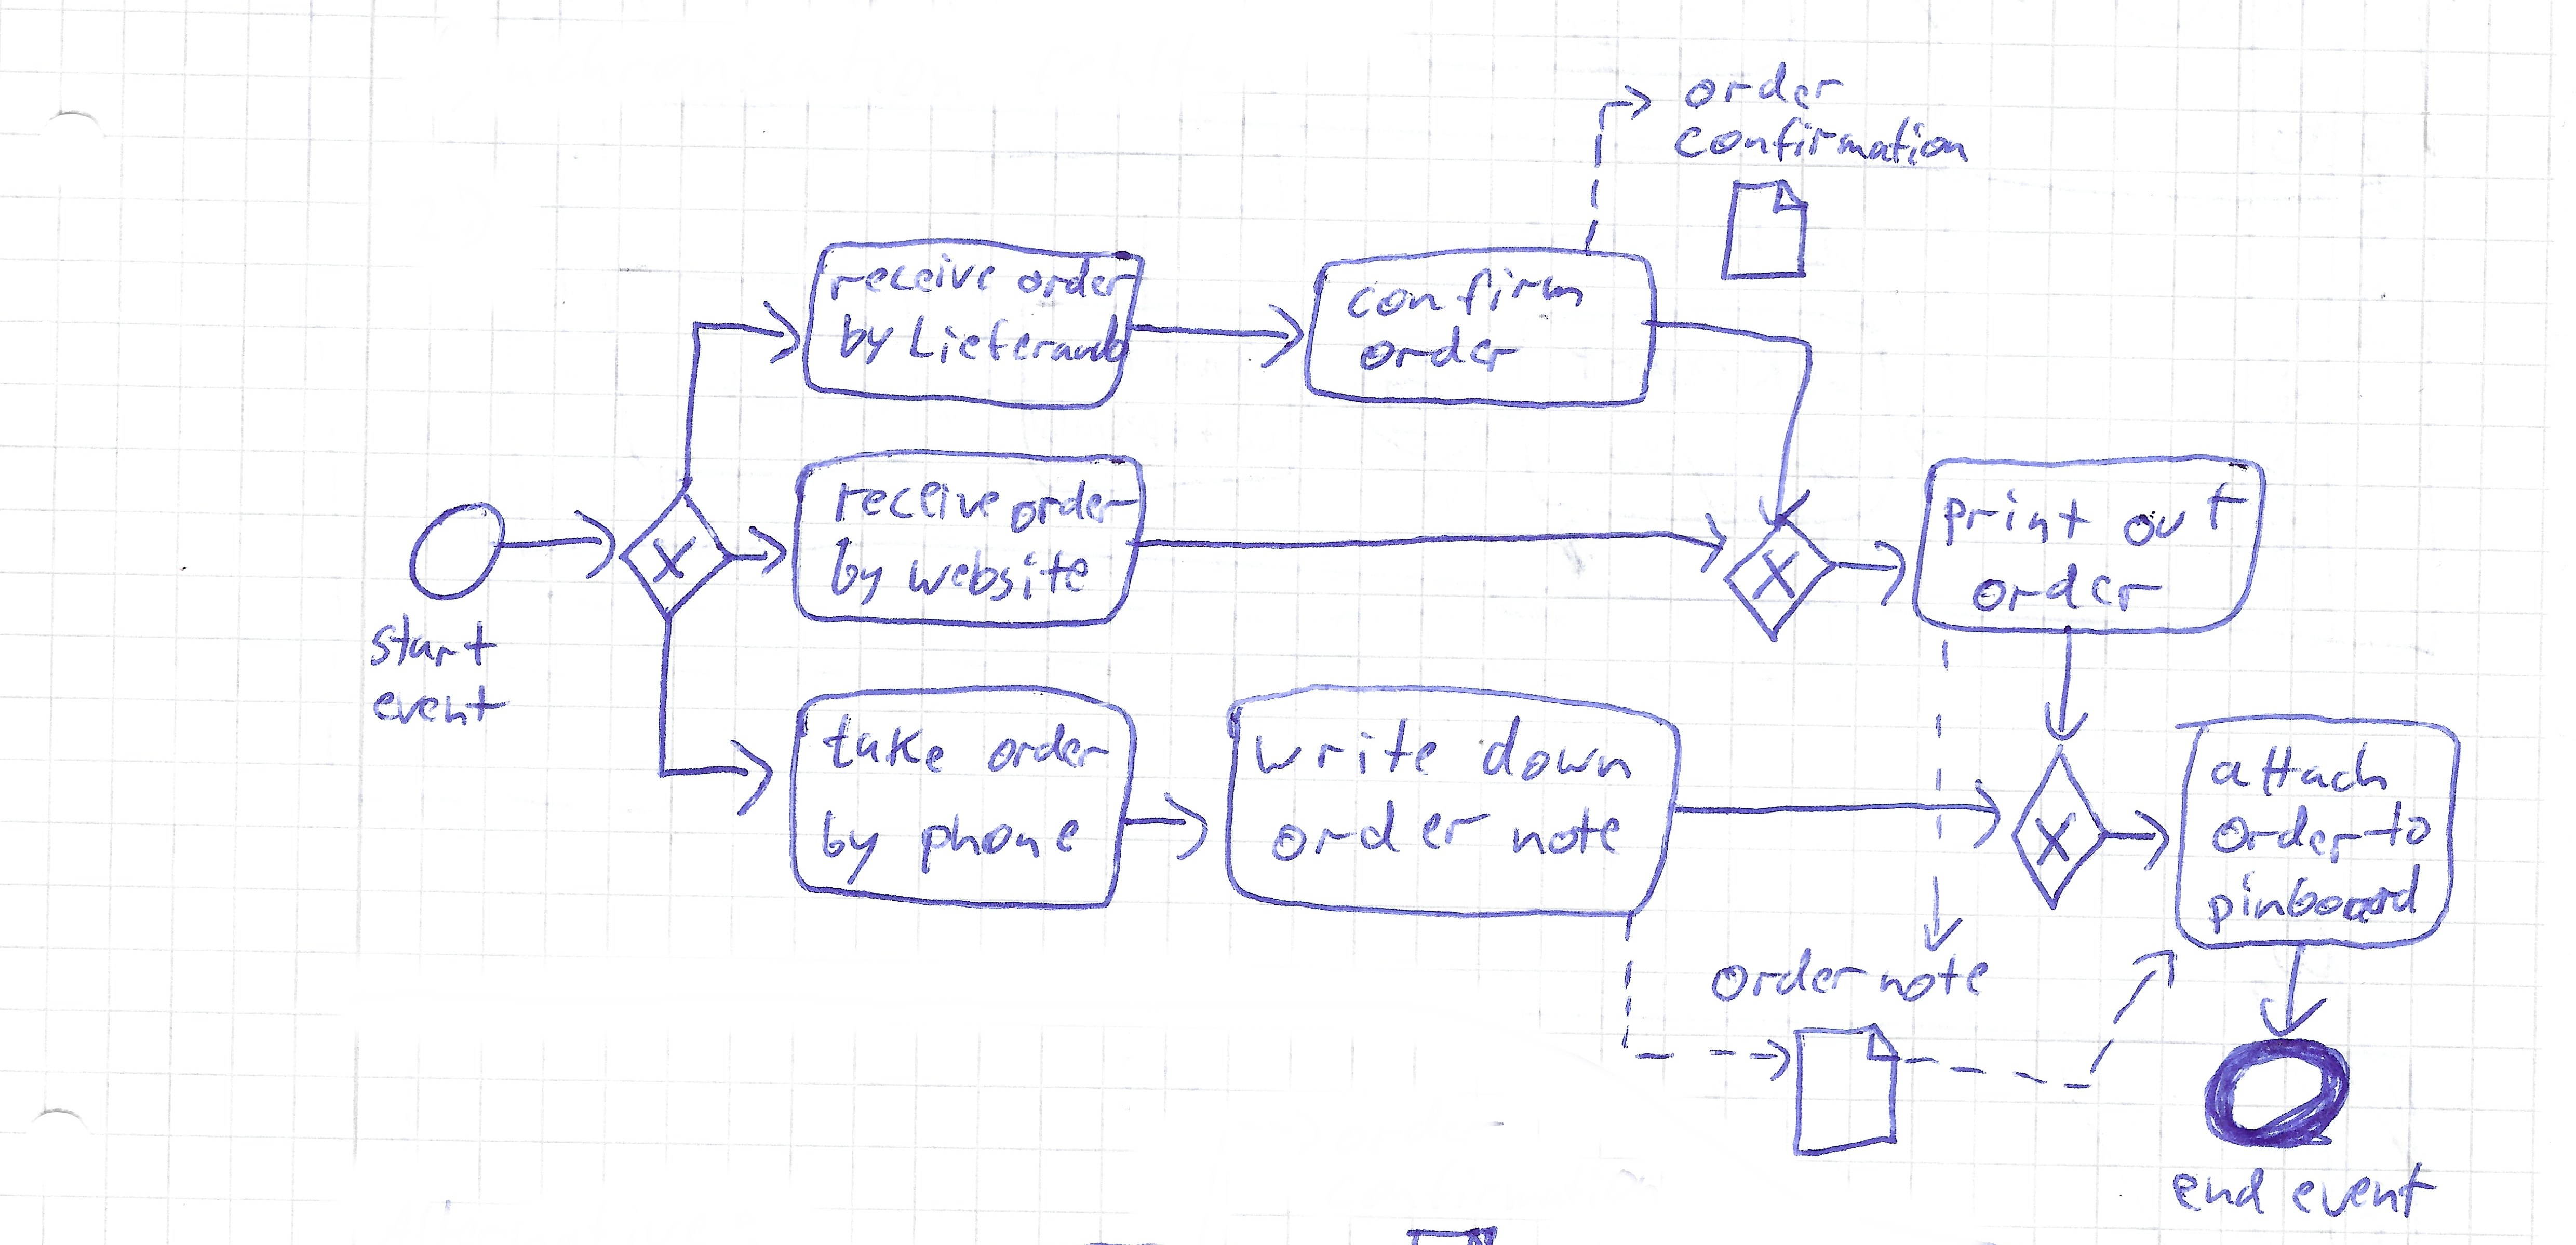Lieferando: (907, 312, 1130, 366)
Order: (2208, 803, 2364, 866)
Start: (365, 613, 496, 670)
attach: (2210, 742, 2390, 797)
by: (820, 808, 882, 885), (828, 537, 886, 608), (836, 312, 894, 366)
confirm: (1346, 266, 1585, 324)
confirmation: (1672, 113, 1971, 164)
down: (1480, 714, 1635, 782)
end: (2172, 1166, 2277, 1214)
event: (2290, 1161, 2438, 1219), (371, 685, 506, 724)
note: (1510, 808, 1620, 857), (1878, 958, 1993, 1004)
order: (1268, 797, 1492, 862), (1971, 562, 2164, 613), (1710, 946, 1870, 1004), (1684, 61, 1845, 112), (1359, 324, 1521, 373), (1010, 480, 1139, 535), (986, 721, 1111, 775), (1017, 258, 1139, 299)
out: (2121, 481, 2247, 547)
phone: (920, 810, 1084, 874)
pinboard: (2208, 861, 2422, 936)
print: (1942, 489, 2093, 545)
receive: (828, 251, 999, 302), (833, 480, 1002, 526)
take: (823, 716, 950, 775)
to: (2379, 798, 2433, 849)
website: (909, 547, 1093, 604)
write: (1254, 711, 1439, 777)
